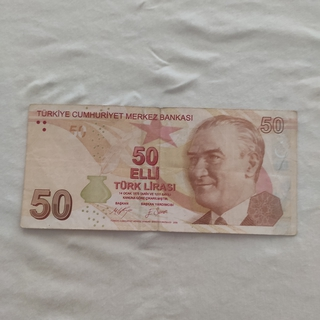50TLFront: (20, 103, 299, 236)
